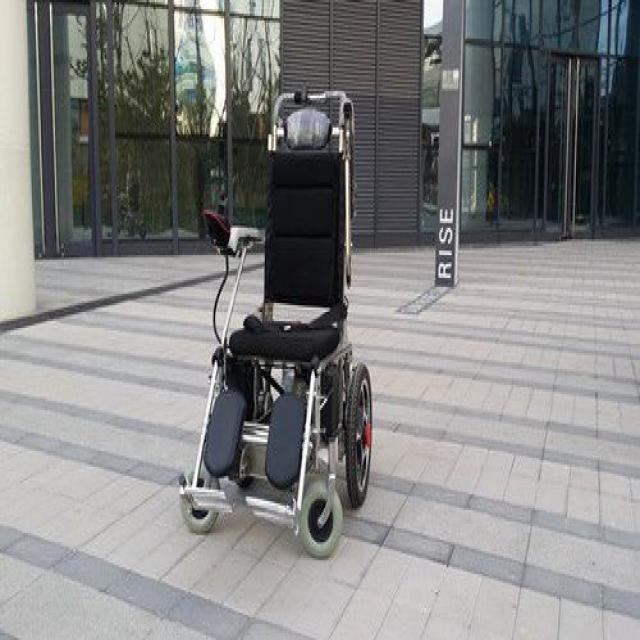wheelchair: (169, 68, 378, 565)
